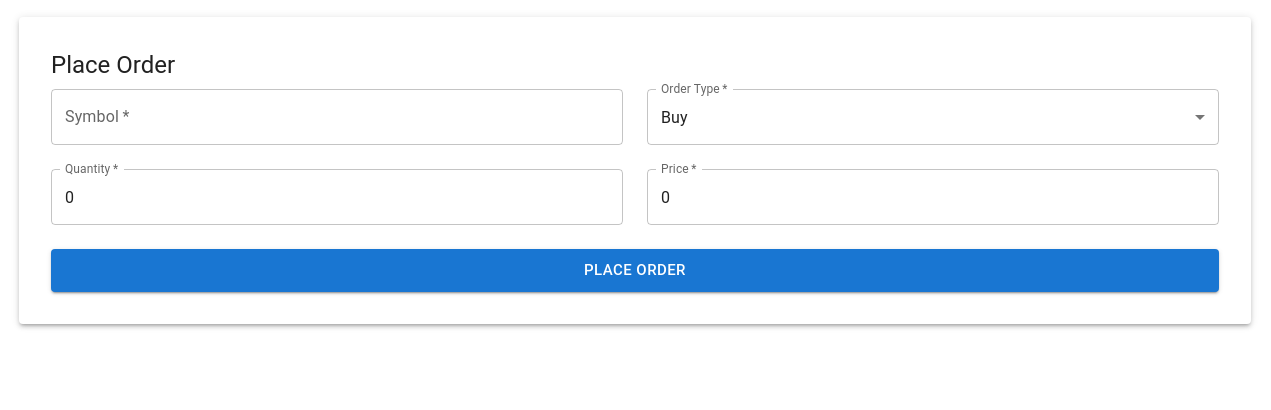
PlaceOrder Component › resets form after successful submission
// Fill in the form
Type "BTC/USD" into the field labelled "Symbol *".
click(337, 117); type("BTC/USD")  # box [51,89,623,145]
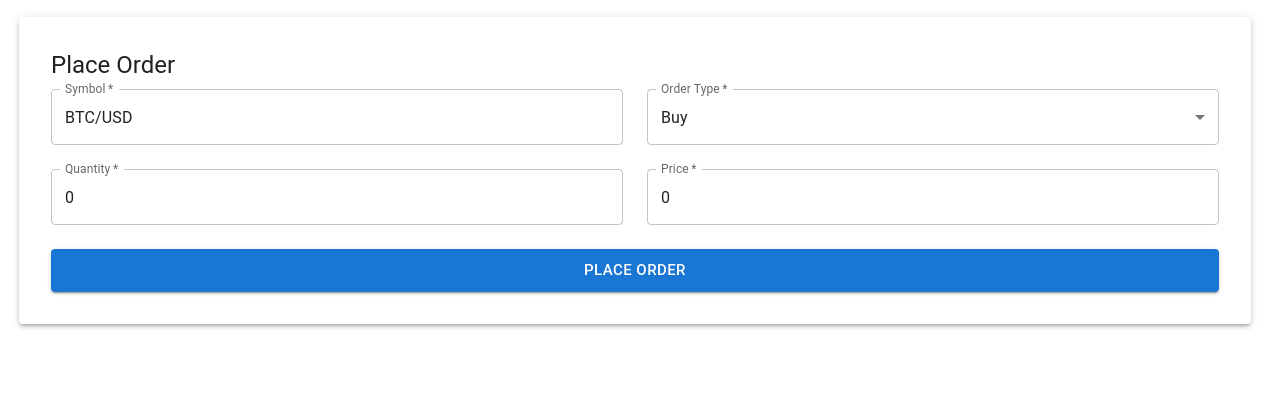
Replace the text in the number field labelled "Quantity *" with "1.5" at coordinates (337, 197), box [51,169,623,225]
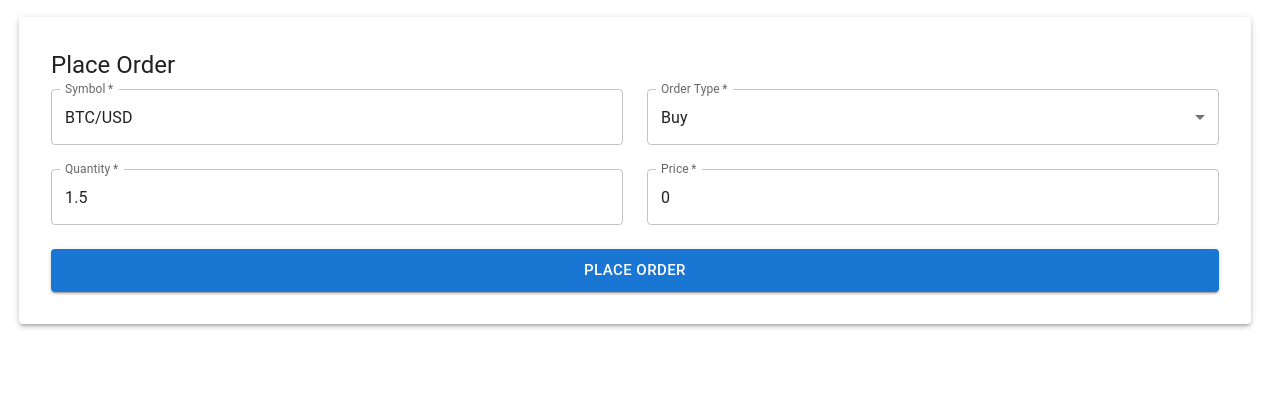
Replace the text in the number field labelled "Price *" with "50000" at coordinates (933, 197), box [647,169,1219,225]
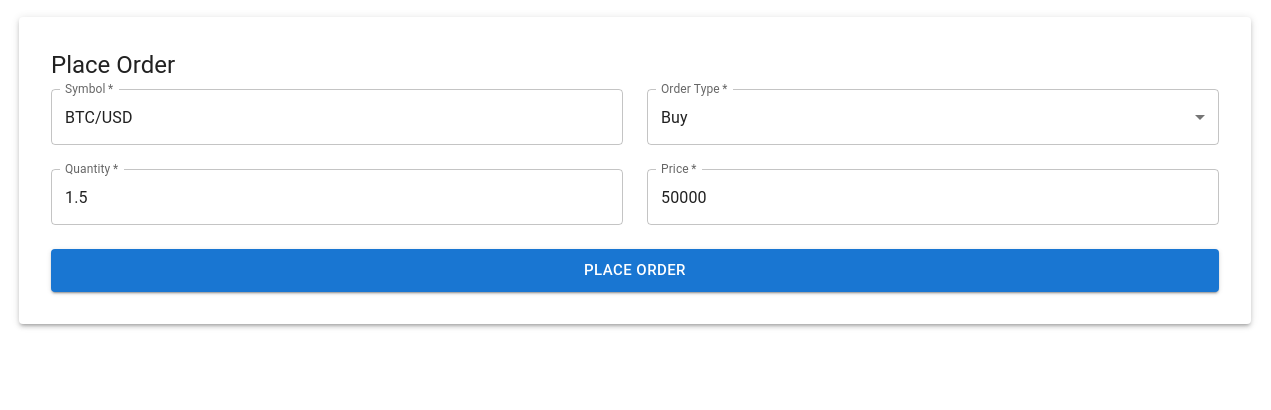
Click the button "Place Order".
click(635, 271)  # box [51,249,1219,292]
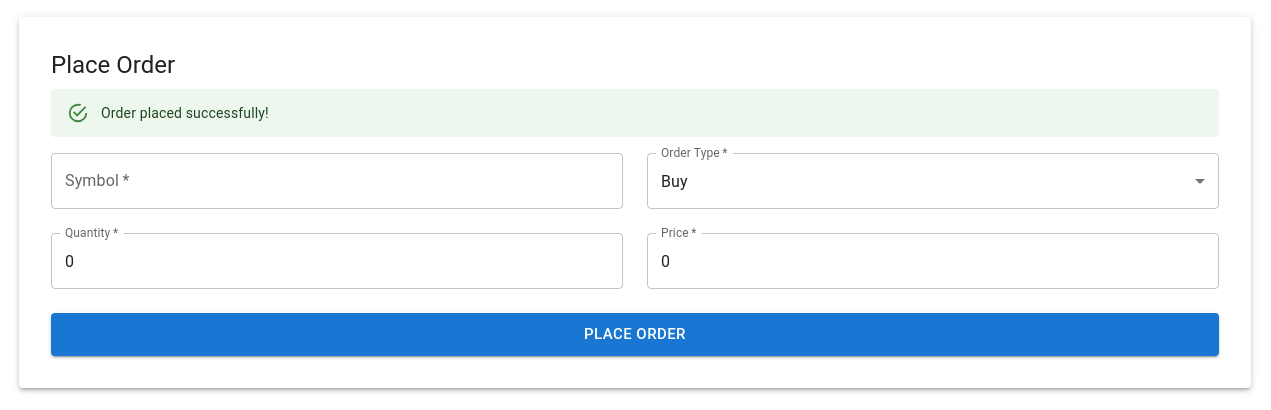
Result: the field labelled "Symbol *" is empty at [51,153,623,209]
Result: the number field labelled "Quantity *" holds "0" at [51,233,623,289]
Result: the number field labelled "Price *" holds "0" at [647,233,1219,289]
